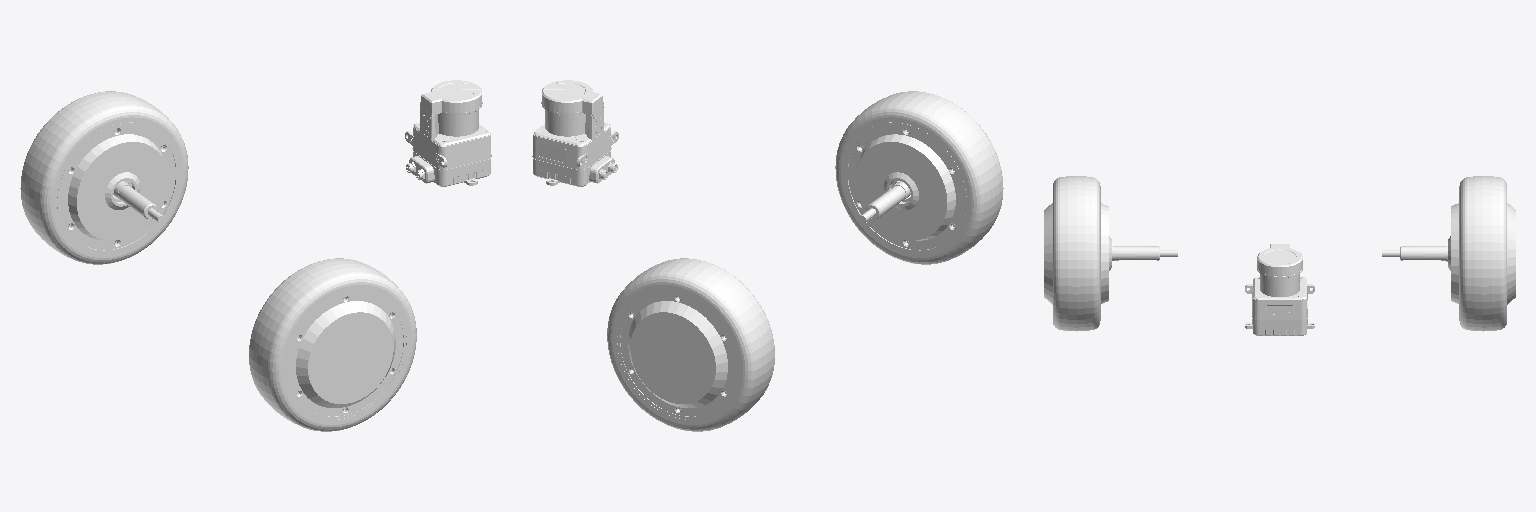
robot.urdf — tt15:
<?xml version="1.0" encoding="utf-8"?>
<!-- This URDF was automatically created by SolidWorks to URDF Exporter! Originally created by [author] ([email redacted]) 
     Commit Version: 1.6.0-4-g7f85cfe  Build Version: 1.6.7995.38578
     For more information, please see http://wiki.ros.org/sw_urdf_exporter -->
<robot
  name="tt15">
  <link
    name="base_link">
    <inertial>
      <origin
        xyz="0.016151 0.00043969 0.087521"
        rpy="0 0 0" />
      <mass
        value="5.9547" />
      <inertia
        ixx="0.076856"
        ixy="9.3181E-07"
        ixz="-0.00034357"
        iyy="0.067606"
        iyz="-4.2068E-05"
        izz="0.13791" />
    </inertial>
    <visual>
      <origin
        xyz="0 0 0"
        rpy="0 0 0" />
      <geometry>
        <mesh
          filename="package://tt15_description/meshes/base_link.STL" />
      </geometry>
      <material
        name="">
        <color
          rgba="0.5098 0.59608 0.45098 1" />
      </material>
    </visual>
    <collision>
      <origin
        xyz="0 0 0"
        rpy="0 0 0" />
      <geometry>
        <mesh
          filename="package://tt15_description/meshes/base_link.STL" />
      </geometry>
    </collision>
  </link>
  <link
    name="left_wheel_link">
    <inertial>
      <origin
        xyz="2.4703E-06 -0.0012899 9.0679E-06"
        rpy="0 0 0" />
      <mass
        value="0.70502" />
      <inertia
        ixx="0.0016931"
        ixy="-3.652E-18"
        ixz="-1.6813E-11"
        iyy="0.0031705"
        iyz="3.7816E-08"
        izz="0.0016933" />
    </inertial>
    <visual>
      <origin
        xyz="0 0 0"
        rpy="0 0 0" />
      <geometry>
        <mesh
          filename="package://tt15_description/meshes/left_wheel_link.STL" />
      </geometry>
      <material
        name="">
        <color
          rgba="1 1 1 1" />
      </material>
    </visual>
    <collision>
      <origin
        xyz="0 0 0"
        rpy="0 0 0" />
      <geometry>
        <mesh
          filename="package://tt15_description/meshes/left_wheel_link.STL" />
      </geometry>
    </collision>
  </link>
  <joint
    name="left_wheel_joint"
    type="continuous">
    <origin
      xyz="0 0.22071 -0.0020002"
      rpy="0 0 0" />
    <parent
      link="base_link" />
    <child
      link="left_wheel_link" />
    <axis
      xyz="0 -1 0" />
  </joint>
  <link
    name="right_wheel_Link">
    <inertial>
      <origin
        xyz="-2.4703E-06 0.0012899 9.0679E-06"
        rpy="0 0 0" />
      <mass
        value="0.70502" />
      <inertia
        ixx="0.0016931"
        ixy="-4.0455E-18"
        ixz="1.6813E-11"
        iyy="0.0031705"
        iyz="-3.7816E-08"
        izz="0.0016933" />
    </inertial>
    <visual>
      <origin
        xyz="0 0 0"
        rpy="0 0 0" />
      <geometry>
        <mesh
          filename="package://tt15_description/meshes/right_wheel_Link.STL" />
      </geometry>
      <material
        name="">
        <color
          rgba="1 1 1 1" />
      </material>
    </visual>
    <collision>
      <origin
        xyz="0 0 0"
        rpy="0 0 0" />
      <geometry>
        <mesh
          filename="package://tt15_description/meshes/right_wheel_Link.STL" />
      </geometry>
    </collision>
  </link>
  <joint
    name="right_wheel_joint"
    type="continuous">
    <origin
      xyz="0 -0.22071 -0.0020002"
      rpy="0 0 0" />
    <parent
      link="base_link" />
    <child
      link="right_wheel_Link" />
    <axis
      xyz="0 1 0" />
  </joint>
  <link
    name="front_caster_wheel_Link">
    <inertial>
      <origin
        xyz="-0.00970797491729186 -3.45465526116473E-08 -0.00573920789631178"
        rpy="0 0 0" />
      <mass
        value="0.0437519362489148" />
      <inertia
        ixx="6.78003851903794E-06"
        ixy="-5.09152153060292E-12"
        ixz="4.11163313565434E-15"
        iyy="8.16306165129579E-06"
        iyz="3.37435080553074E-12"
        izz="1.06592496755636E-05" />
    </inertial>
    <visual>
      <origin
        xyz="0 0 0"
        rpy="0 0 0" />
      <geometry>
        <mesh
          filename="package://tt15_description/meshes/front_caster_wheel_Link.STL" />
      </geometry>
      <material
        name="">
        <color
          rgba="1 1 1 1" />
      </material>
    </visual>
    <collision>
      <origin
        xyz="0 0 0"
        rpy="0 0 0" />
      <geometry>
        <mesh
          filename="package://tt15_description/meshes/front_caster_wheel_Link.STL" />
      </geometry>
    </collision>
  </link>
  <joint
    name="front_caster_wheel_joint"
    type="continuous">
    <origin
      xyz="0.24 0.06 -0.0483"
      rpy="0 0 0" />
    <parent
      link="base_link" />
    <child
      link="front_caster_wheel_Link" />
    <axis
      xyz="0 0 1" />
  </joint>
  <link
    name="back_caster_wheel_Link">
    <inertial>
      <origin
        xyz="0.24835 0.060345 0.11522"
        rpy="0 0 0" />
      <mass
        value="7.5801" />
      <inertia
        ixx="0.21035"
        ixy="-0.00093455"
        ixz="0.0014762"
        iyy="0.22682"
        iyz="9.6823E-05"
        izz="0.36933" />
    </inertial>
    <visual>
      <origin
        xyz="0 0 0"
        rpy="0 0 0" />
      <geometry>
        <mesh
          filename="package://tt15_description/meshes/back_caster_wheel_Link.STL" />
      </geometry>
      <material
        name="">
        <color
          rgba="1 1 1 1" />
      </material>
    </visual>
    <collision>
      <origin
        xyz="0 0 0"
        rpy="0 0 0" />
      <geometry>
        <mesh
          filename="package://tt15_description/meshes/back_caster_wheel_Link.STL" />
      </geometry>
    </collision>
  </link>
  <joint
    name="back_caster_wheel_joint"
    type="continuous">
    <origin
      xyz="-0.24 -0.06 -0.0483"
      rpy="0 0 0" />
    <parent
      link="base_link" />
    <child
      link="back_caster_wheel_Link" />
    <axis
      xyz="0 0 1" />
  </joint>
  <link
    name="Laser_Link">
    <inertial>
      <origin
        xyz="1.7834E-05 -0.0050129 -0.019856"
        rpy="0 0 0" />
      <mass
        value="0.23893" />
      <inertia
        ixx="0.00016679"
        ixy="-3.8597E-08"
        ixz="4.7531E-09"
        iyy="0.00015924"
        iyz="-8.3957E-07"
        izz="0.00011562" />
    </inertial>
    <visual>
      <origin
        xyz="0 0 0"
        rpy="0 0 0" />
      <geometry>
        <mesh
          filename="package://tt15_description/meshes/Laser_Link.STL" />
      </geometry>
      <material
        name="">
        <color
          rgba="1 1 1 1" />
      </material>
    </visual>
    <collision>
      <origin
        xyz="0 0 0"
        rpy="0 0 0" />
      <geometry>
        <mesh
          filename="package://tt15_description/meshes/Laser_Link.STL" />
      </geometry>
    </collision>
  </link>
  <joint
    name="Laser_joint"
    type="fixed">
    <origin
      xyz="0.2654 0 0.090068"
      rpy="0 0 -1.5708" />
    <parent
      link="base_link" />
    <child
      link="Laser_Link" />
    <axis
      xyz="0 0 0" />
  </joint>
</robot>

--- What the picture shows (computed from the rendered views, not written in the file) ---
Views: 3 orthographic renders of the robot side by side, from view 1: azimuth 30°, elevation 25°; view 2: azimuth 150°, elevation 25°; view 3: azimuth 270°, elevation 25°.
Model tt15 with 6 links and 5 joints (4 continuous, 1 fixed), rooted at base_link, posed all joints at 0.
Visible links, largest first — view 1: right_wheel_Link, left_wheel_link, Laser_Link; view 2: left_wheel_link, right_wheel_Link, Laser_Link; view 3: left_wheel_link, right_wheel_Link, Laser_Link.
Link boxes in pixels (box(x1,y1,x2,y2)): right_wheel_Link: box(249, 258, 416, 431); left_wheel_link: box(20, 91, 188, 264); Laser_Link: box(405, 80, 491, 186); left_wheel_link: box(607, 258, 774, 431); right_wheel_Link: box(835, 91, 1003, 264); Laser_Link: box(532, 80, 618, 186); left_wheel_link: box(1382, 176, 1515, 331); right_wheel_Link: box(1044, 176, 1177, 331); Laser_Link: box(1245, 244, 1314, 335).
Size in the robot's own frame: 0.3751 by 0.511 by 0.2049 metres.
3 mesh visuals loaded from 6 distinct referenced files (3 binary STL); not drawn: 3 (reference not matched to a file when rendering).